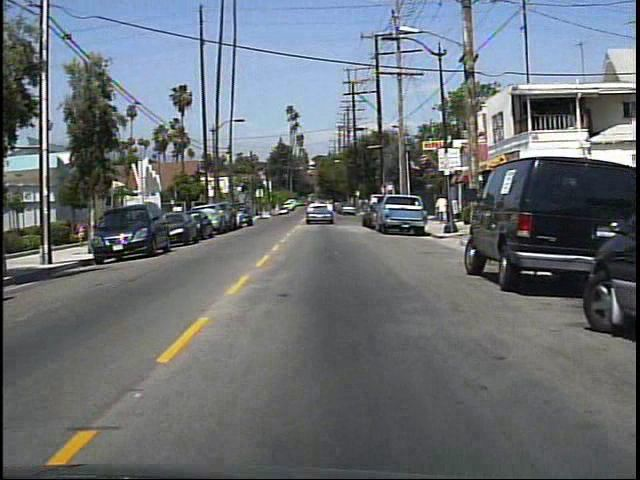person: (435, 193, 455, 228), (76, 218, 92, 246)
